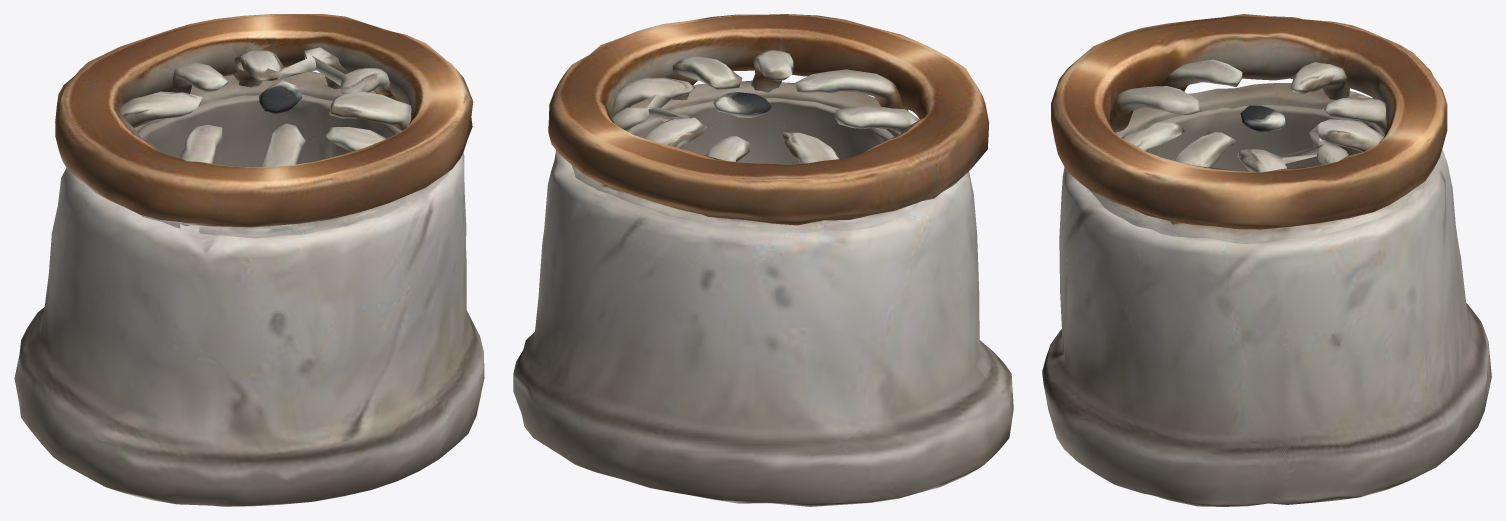
File: el_respiro.glb
3 views of the same model, side by side, from view 1: azimuth 30°, elevation 25°; view 2: azimuth 150°, elevation 25°; view 3: azimuth 270°, elevation 25° (orthographic). The views are drawn at different scales.
Parts seen in each view (by area): view 1: Mesh_0.001; view 2: Mesh_0.001; view 3: Mesh_0.001.
Boxes of the visible parts, left/top/right/bottom form: Mesh_0.001: left=14, top=14, right=484, bottom=506; Mesh_0.001: left=513, top=14, right=1013, bottom=506; Mesh_0.001: left=1042, top=14, right=1491, bottom=506.
Bounding box in the file's own units: 0.1731 × 0.135 × 0.1662.
1 material, 1 textured.
